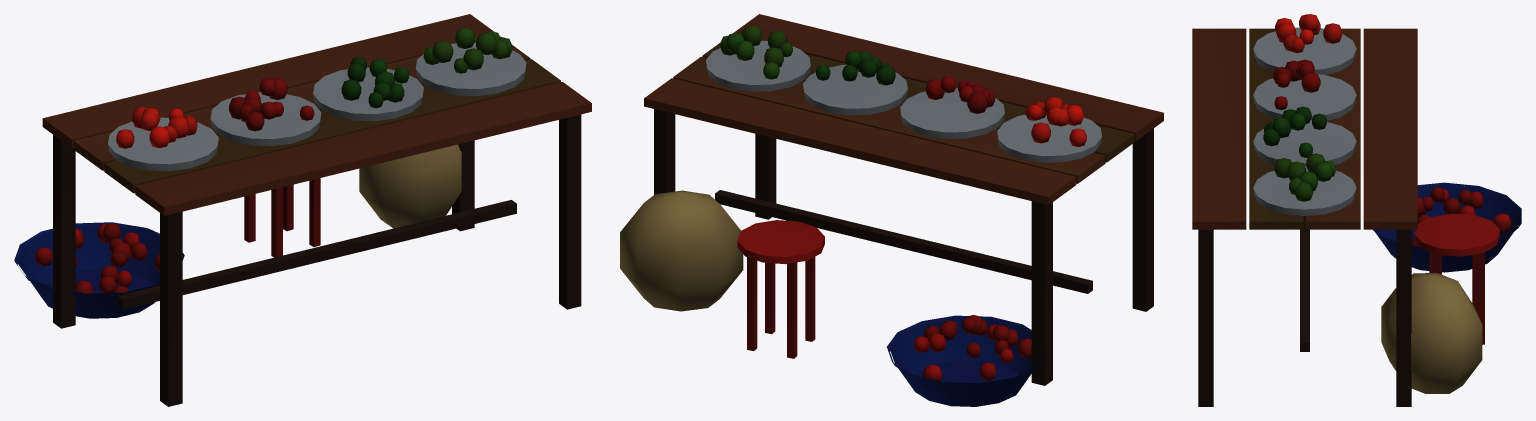
Rendered from mk_stall_table.glb.
3 renders of one model, left to right at view 1: azimuth 30°, elevation 25°; view 2: azimuth 150°, elevation 25°; view 3: azimuth 270°, elevation 25°, orthographic. The views are drawn at different scales.
Visible parts, largest first — view 1: mk_stall_table; view 2: mk_stall_table; view 3: mk_stall_table.
Boxes of the visible parts, box(x1,y1,x2,y2) form: mk_stall_table: box(14, 14, 591, 406); mk_stall_table: box(620, 14, 1163, 406); mk_stall_table: box(1192, 14, 1521, 406).
Bounding box in the file's own units: 1.82 × 1 × 1.3.
